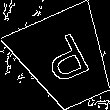P_SE: (35, 29, 96, 91)
